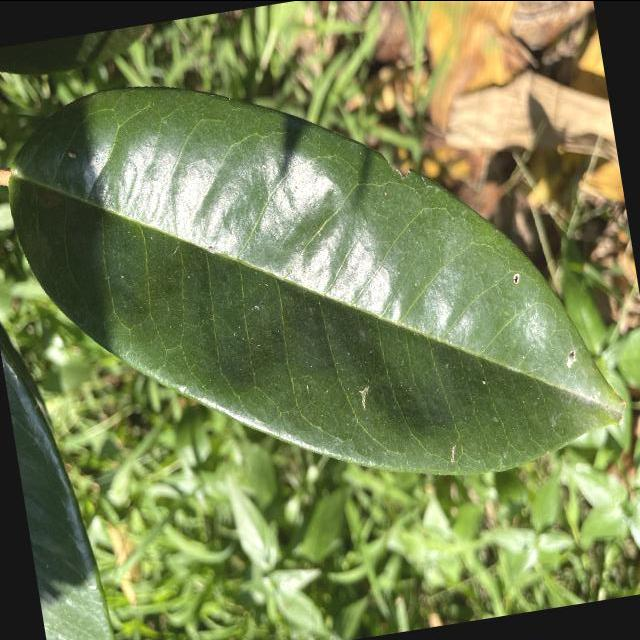No Disease: (0, 4, 639, 552)
